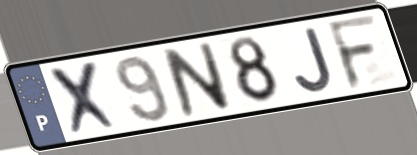8: (226, 34, 282, 106)
9: (111, 53, 173, 125)
F: (324, 11, 382, 93)
J: (291, 25, 337, 96)
N: (159, 40, 235, 120)
X: (45, 57, 125, 138)
